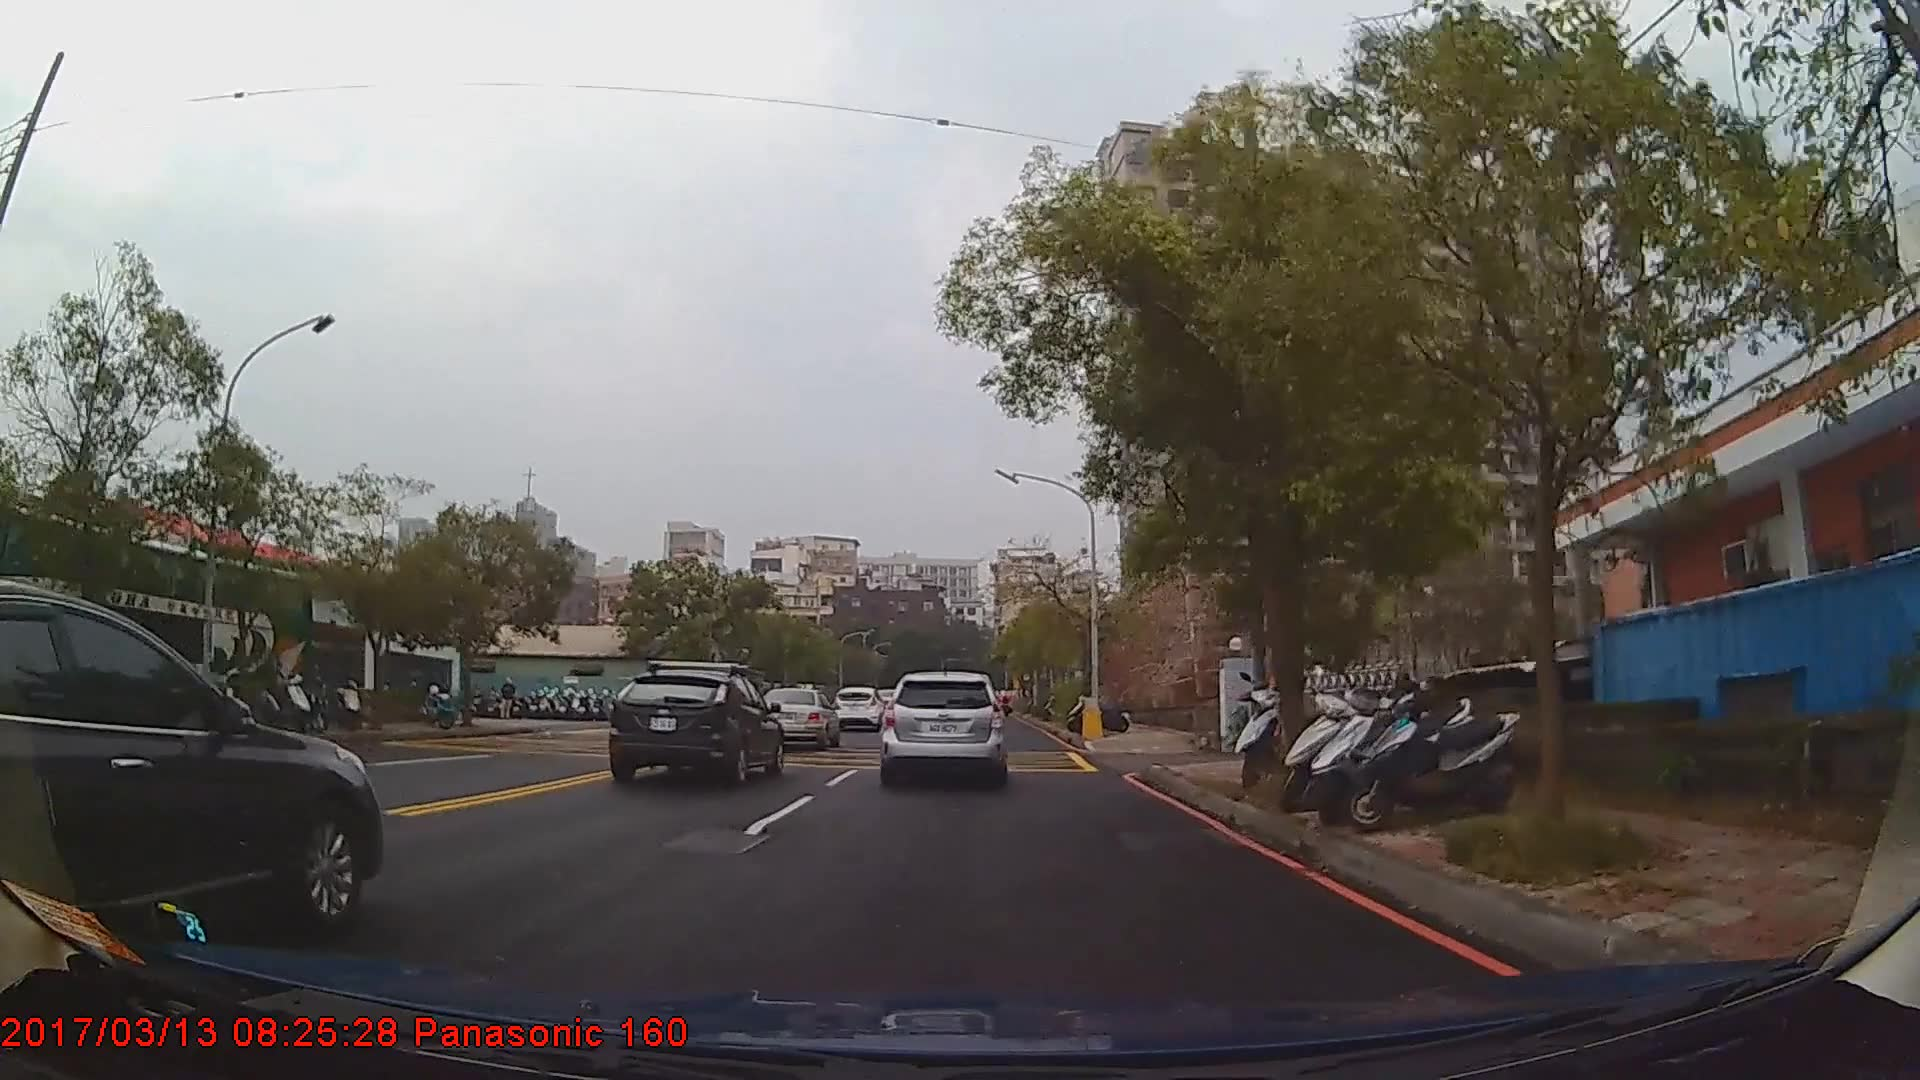vehicle: (0, 578, 382, 960), (0, 501, 307, 740), (604, 667, 782, 789), (880, 667, 1004, 789), (756, 684, 837, 749), (829, 684, 884, 729)
